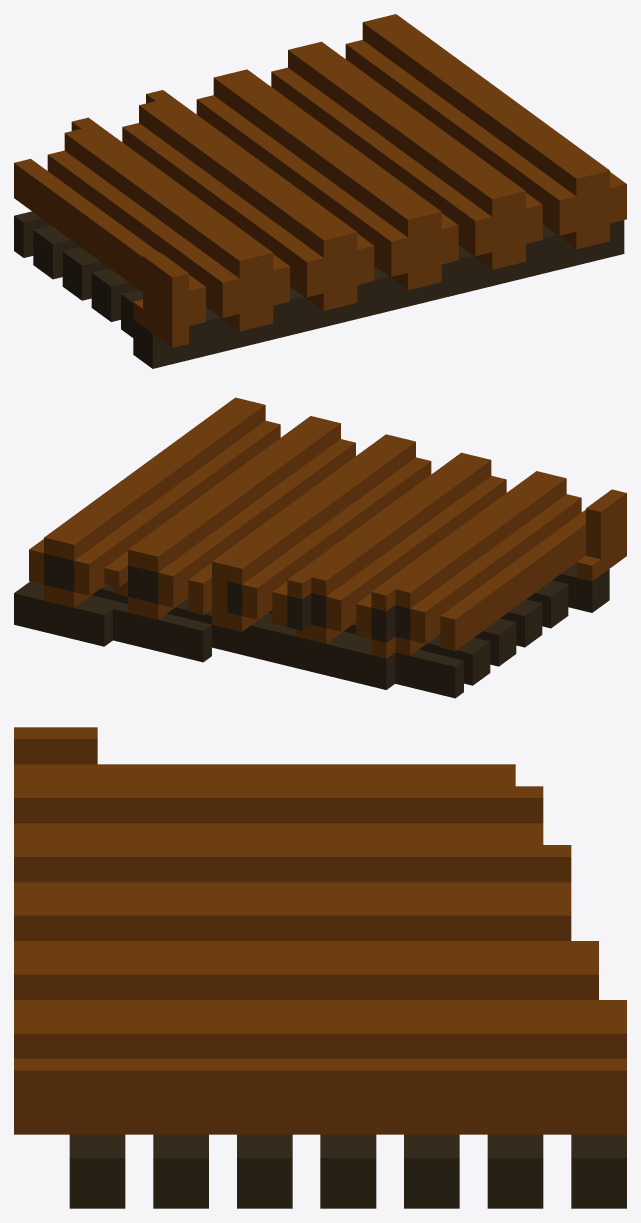
The model's file is wood bridge ошметек 6.obj.
The picture shows the model from 3 angles, top to bottom: view 1: azimuth 30°, elevation 25°; view 2: azimuth 150°, elevation 25°; view 3: azimuth 270°, elevation 25°; orthographic projection. The views are drawn at different scales.
Bounding box in the file's own units: 2.8 × 0.6 × 2.2.
1 material, 1 textured.
